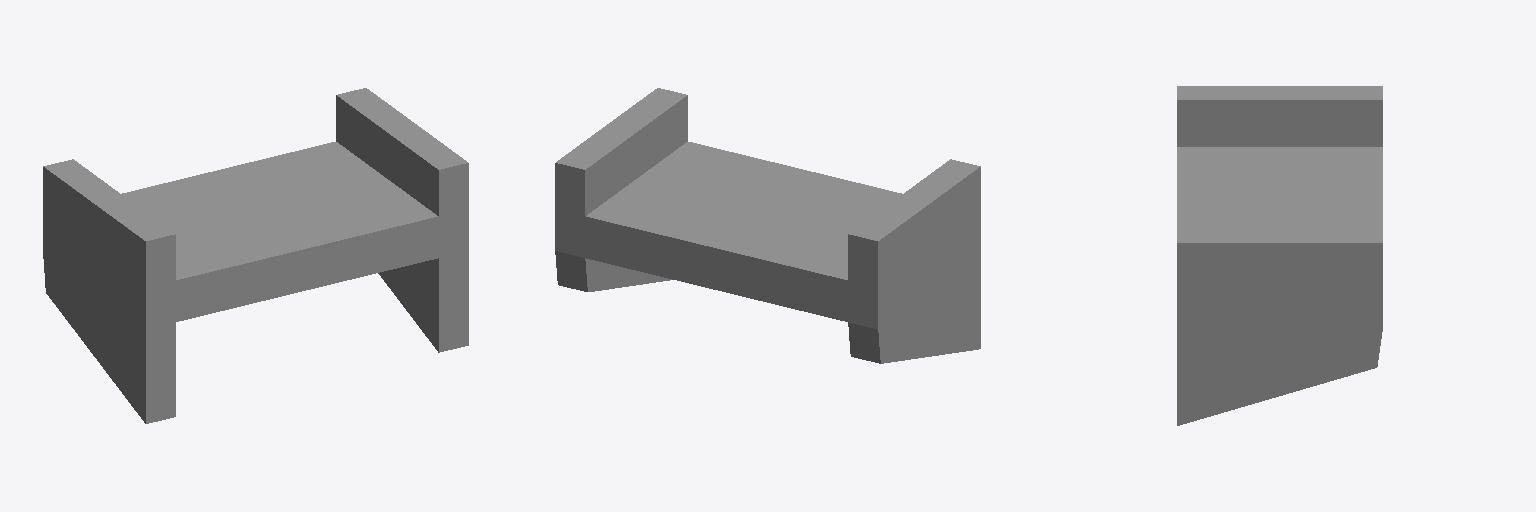
File: wall_wooden_shelf.obj
The picture shows the model from 3 angles: view 1: azimuth 30°, elevation 25°; view 2: azimuth 150°, elevation 25°; view 3: azimuth 270°, elevation 25°; orthographic projection.
Parts seen in each view (by area): view 1: Cube; view 2: Cube; view 3: Cube.
Boxes of the visible parts, <box> form: Cube: <box>43,88,468,423</box>; Cube: <box>555,88,980,363</box>; Cube: <box>1177,86,1382,425</box>.
Size of the model in its own units: 2 by 1.08 by 1.1.